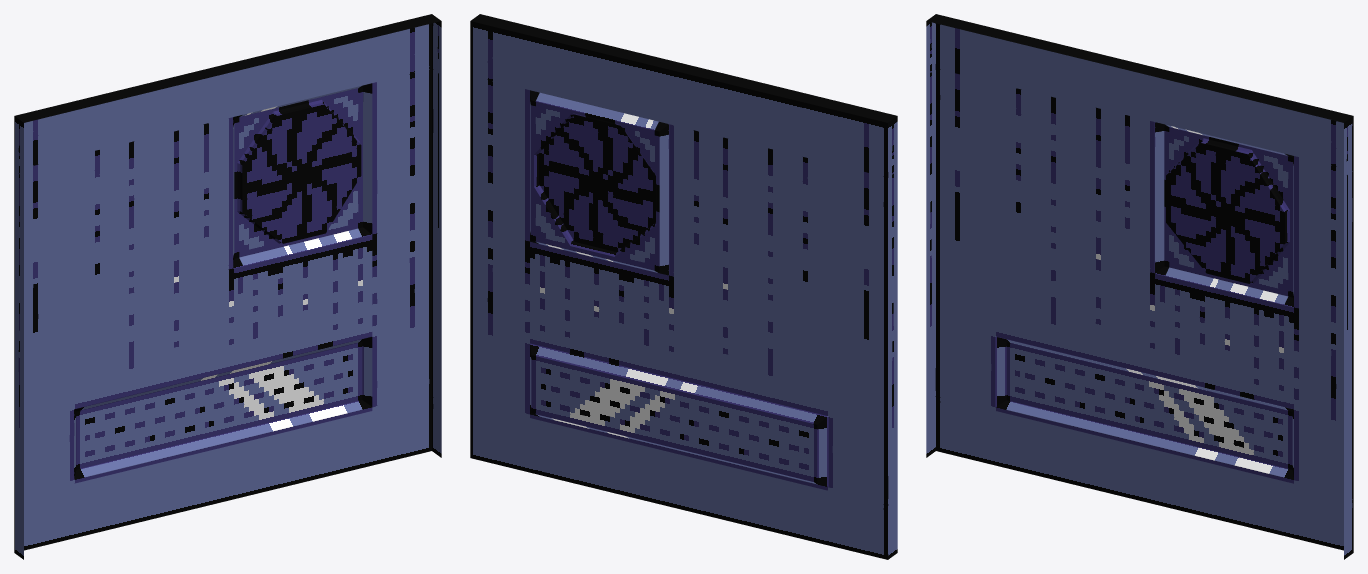
File: Wall_PodB.glb
3 views of the same model, side by side, from view 1: azimuth 30°, elevation 25°; view 2: azimuth 150°, elevation 25°; view 3: azimuth 330°, elevation 25° (orthographic).
Visible parts, largest first — view 1: Wall_PodB; view 2: Wall_PodB; view 3: Wall_PodB.
Boxes of the visible parts, <box> form: Wall_PodB: <box>14,14,441,559</box>; Wall_PodB: <box>470,14,897,559</box>; Wall_PodB: <box>926,14,1353,559</box>.
Size of the model in its own units: 5 by 5 by 0.2871.
Materials: 1 (1 with a texture image).
